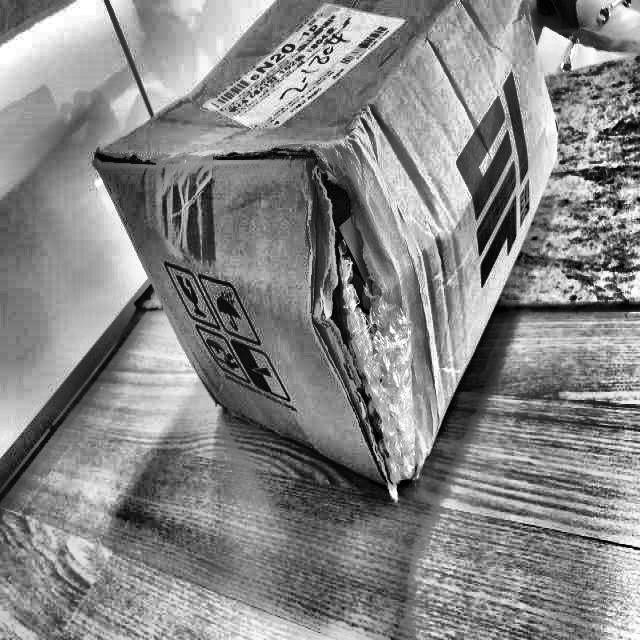box: (82, 0, 579, 500)
hole: (302, 166, 422, 496)
